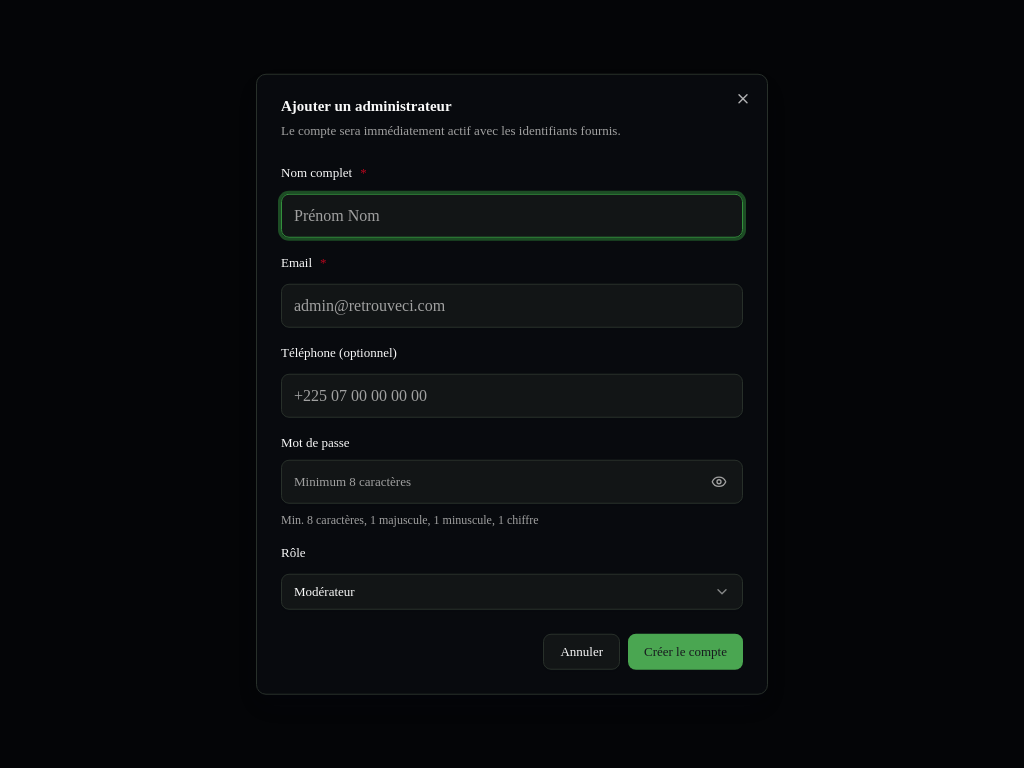
Test: AdminCreateDialog › renders a root error and keeps the dialog open
In the field labelled "Nom complet *": [512, 216] box [281,194,743,238], type "Awa Koné"
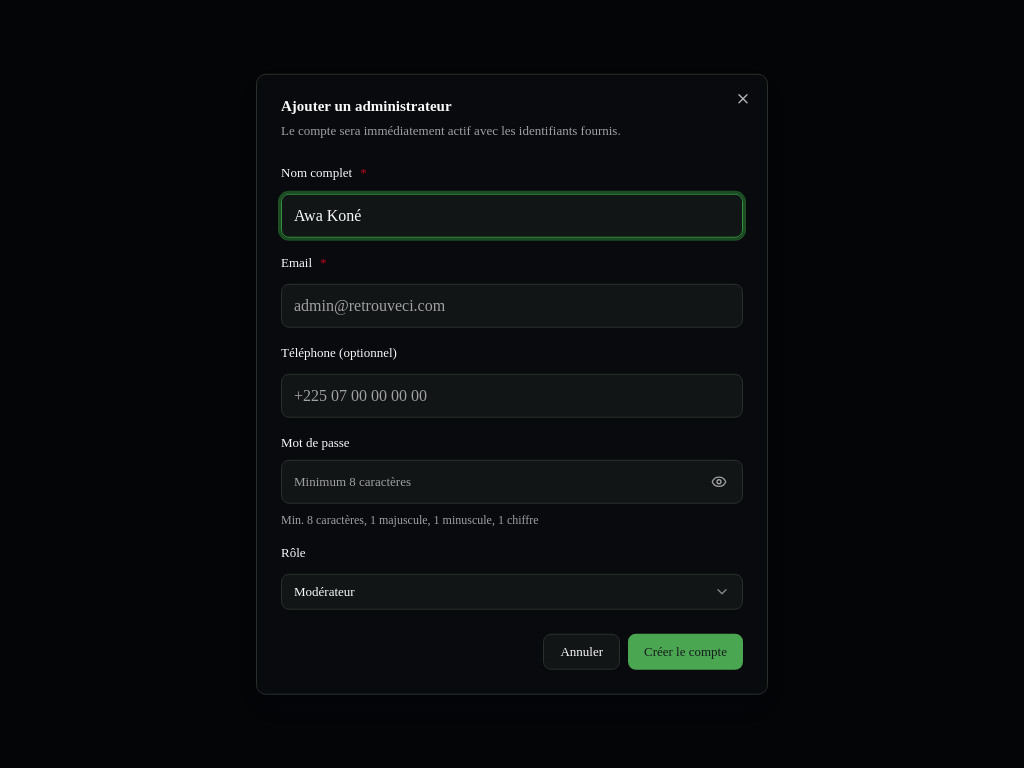
In the field labelled "Email *": [512, 306] box [281,284,743,328], type "awa@retrouveci.com"
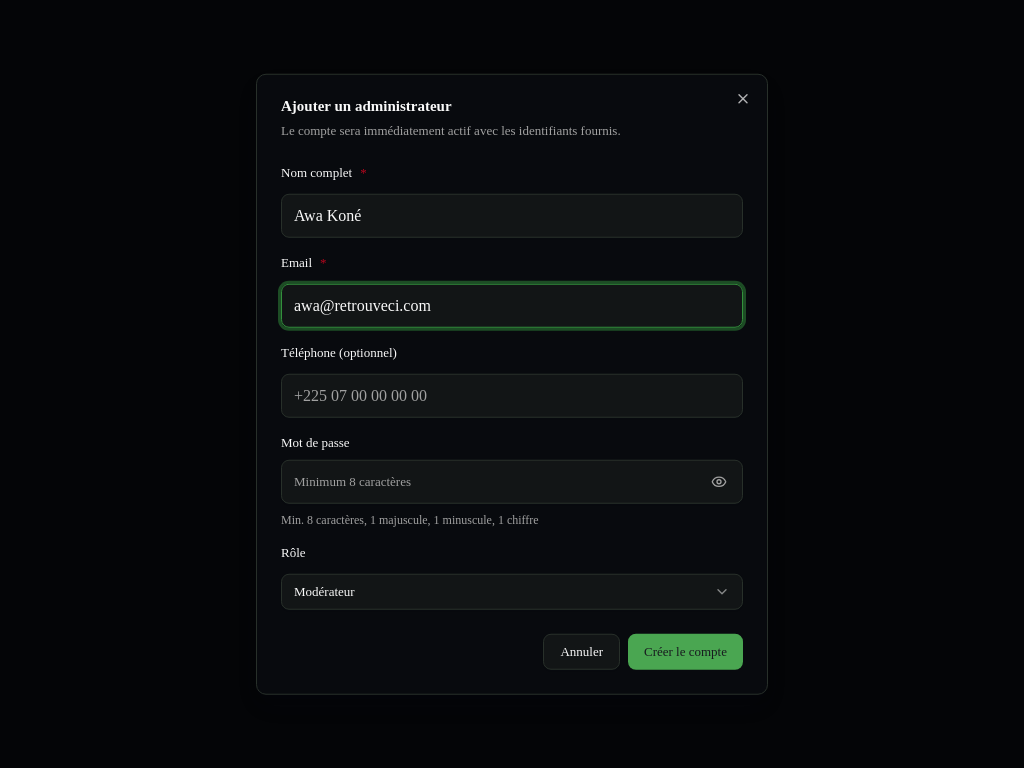
In the password field labelled "Mot de passe": [512, 481] box [281,459,743,503], type "Motdepasse1"
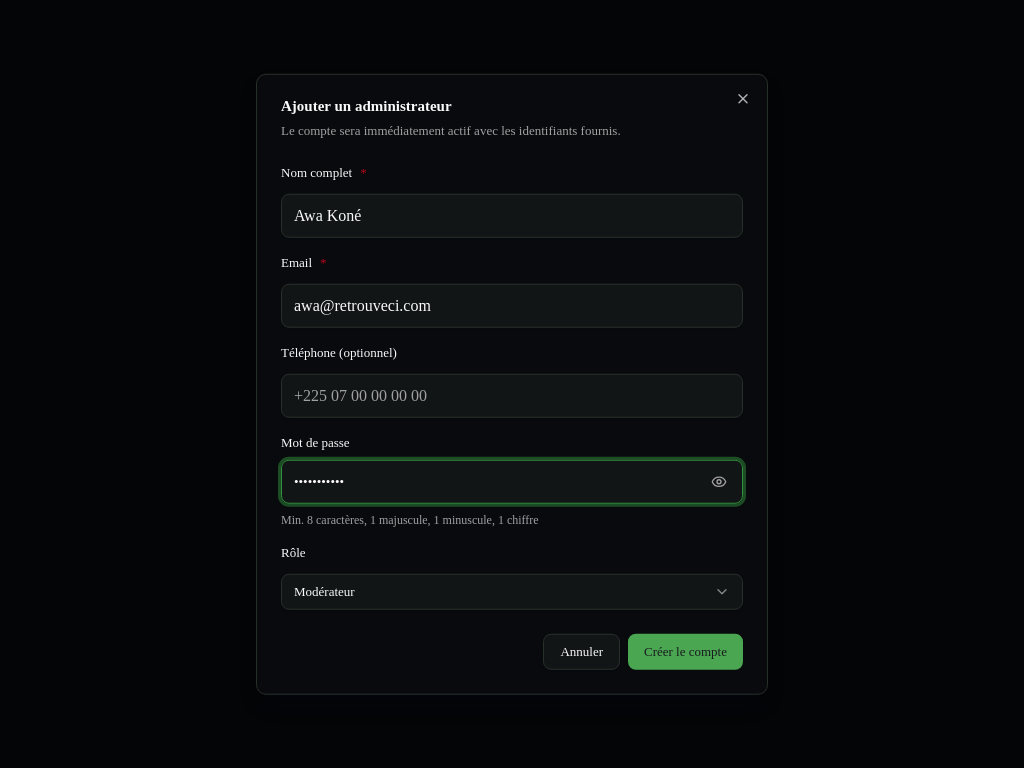
Click the button "Créer le compte": [686, 651] box [628,633,743,669]
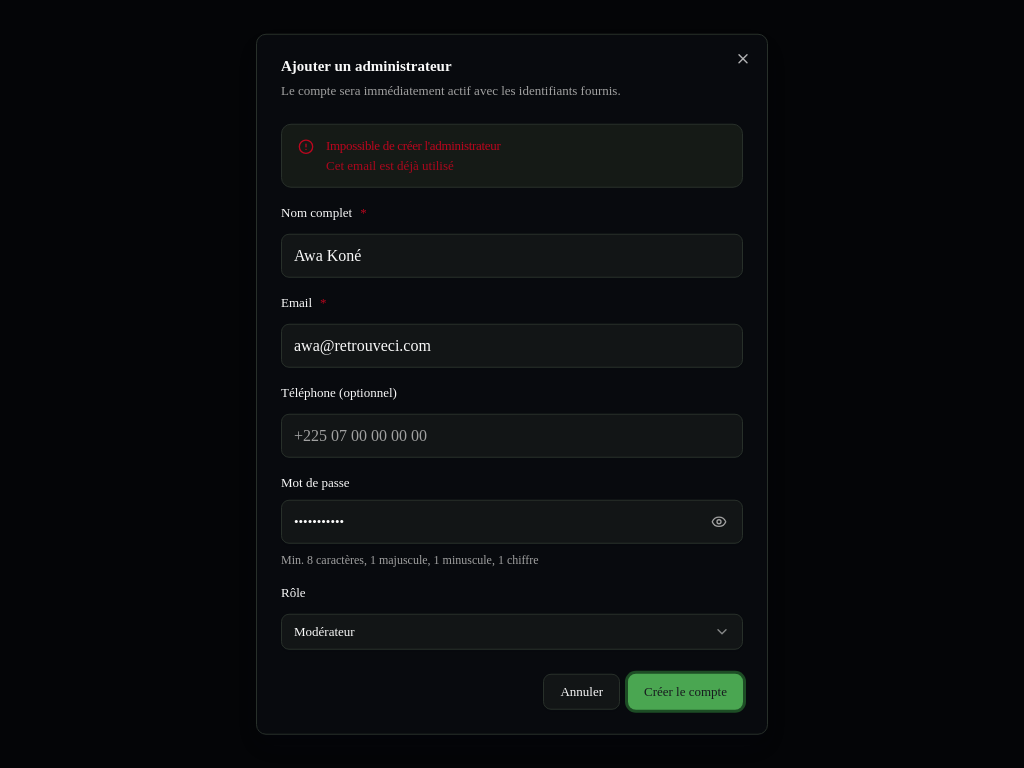
Now the text "Impossible de créer l'administrateur" is shown, box [326,138,500,153]
Now the text "Cet email est déjà utilisé" is shown, box [326,158,454,173]
